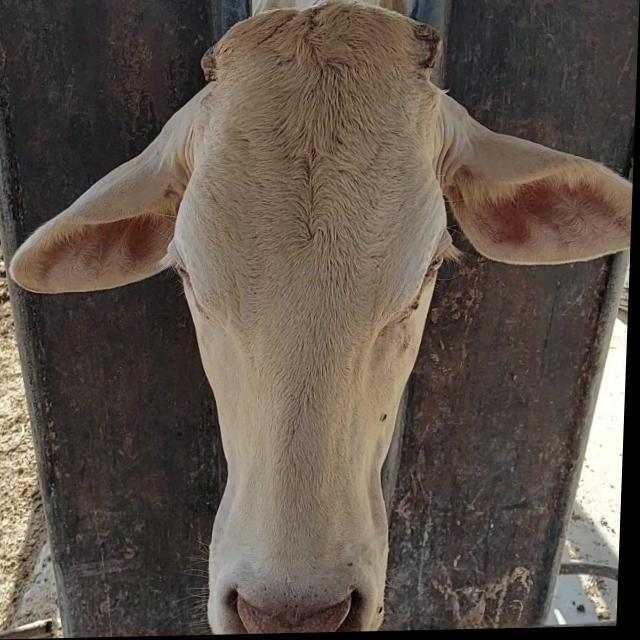cowFace: (156, 1, 455, 637)
